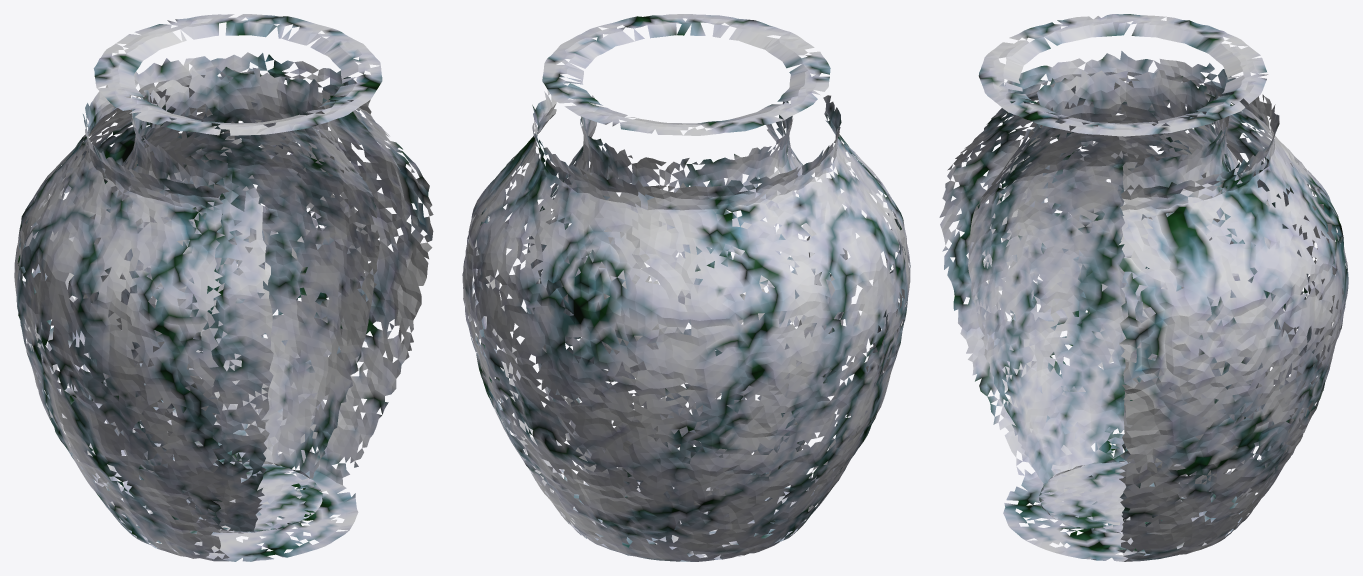
Rendered from vase2_final400.obj.
The picture shows the model from 3 angles, left to right: view 1: azimuth 30°, elevation 25°; view 2: azimuth 150°, elevation 25°; view 3: azimuth 270°, elevation 25°; orthographic projection.
Size of the model in its own units: 1.61 by 1.74 by 1.47.
